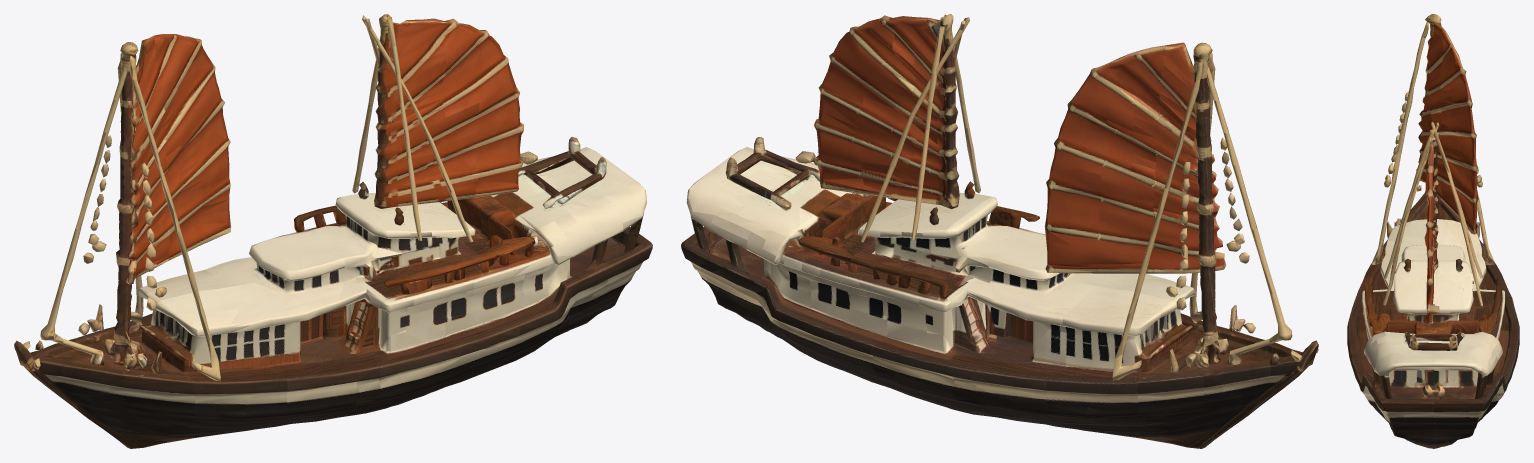
File: thuyen-buom.glb
3 views of the same model, side by side, from view 1: azimuth 30°, elevation 25°; view 2: azimuth 150°, elevation 25°; view 3: azimuth 270°, elevation 25° (orthographic). The views are drawn at different scales.
Bounding box in the file's own units: 1 × 0.644 × 0.3395.
Materials: 1 (1 with a texture image).
